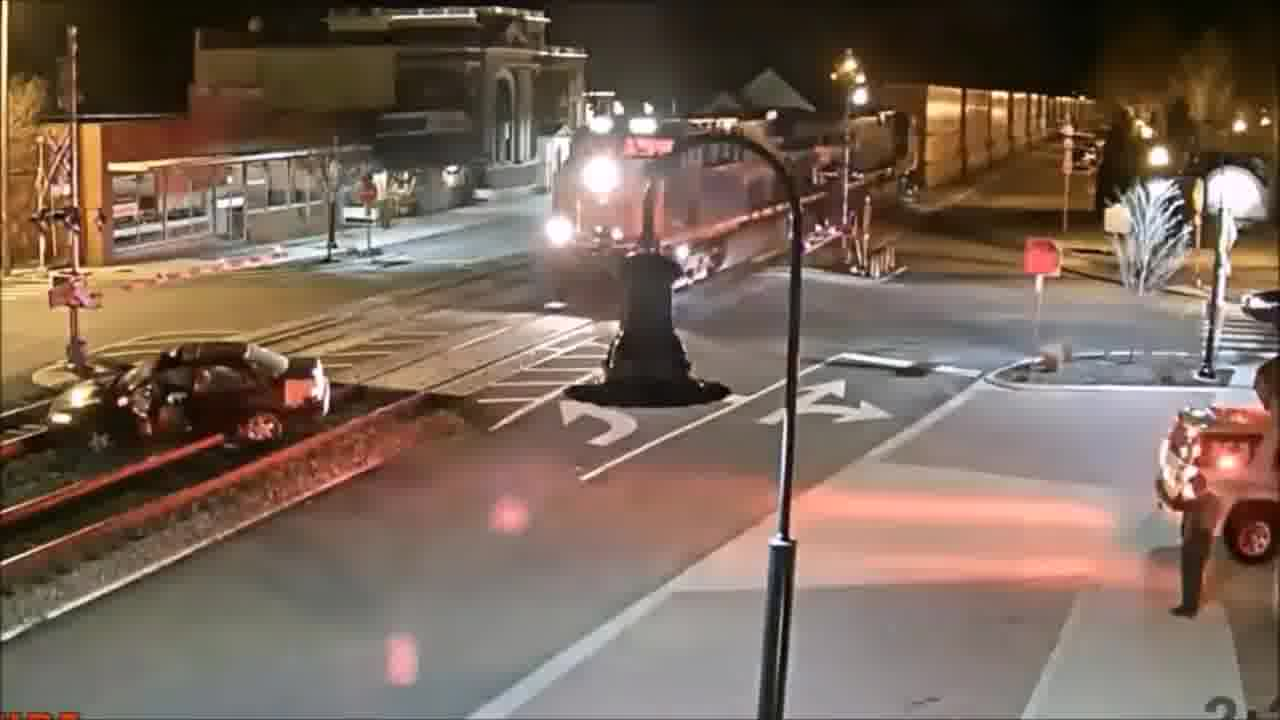crossing railway track: (45, 350, 354, 486)
